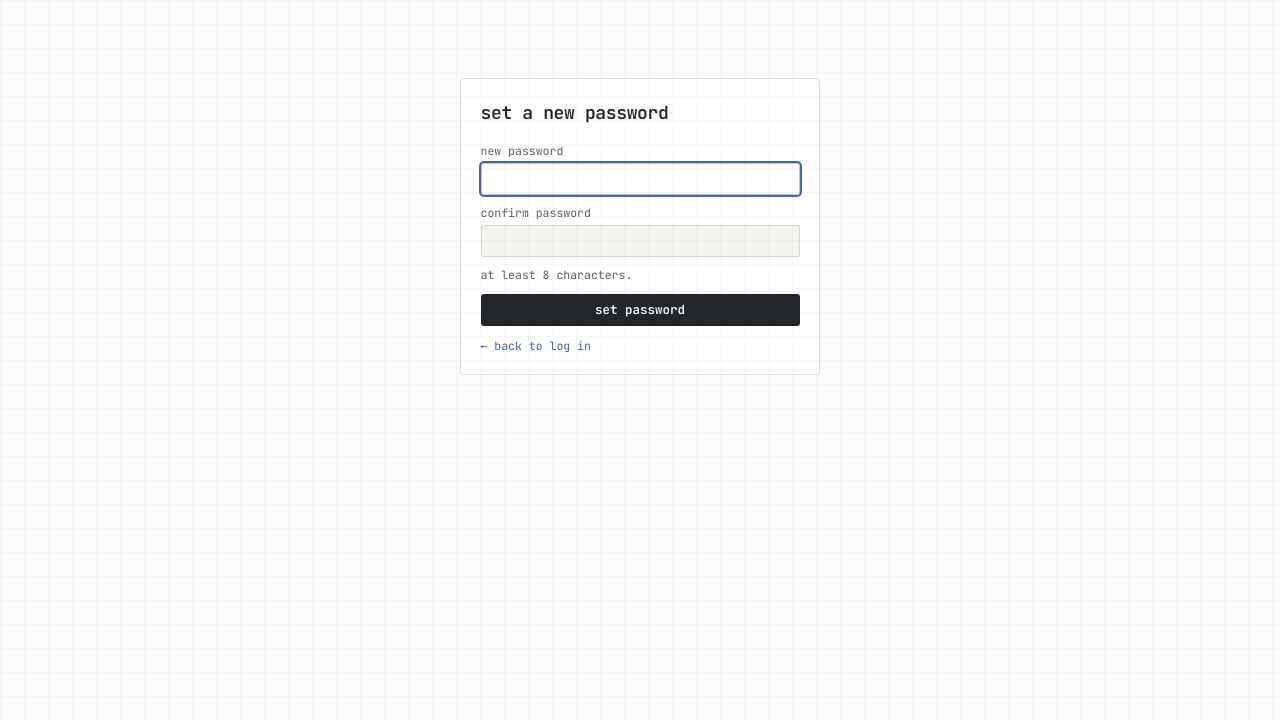
ResetPasswordPage › explains an invalid or expired token
The width and height of the screenshot is (1280, 720).
Step 1. Type "hunter2hunter2" into the password field labelled "new password" → (640, 179), box top-left (480, 163), bottom-right (800, 195)
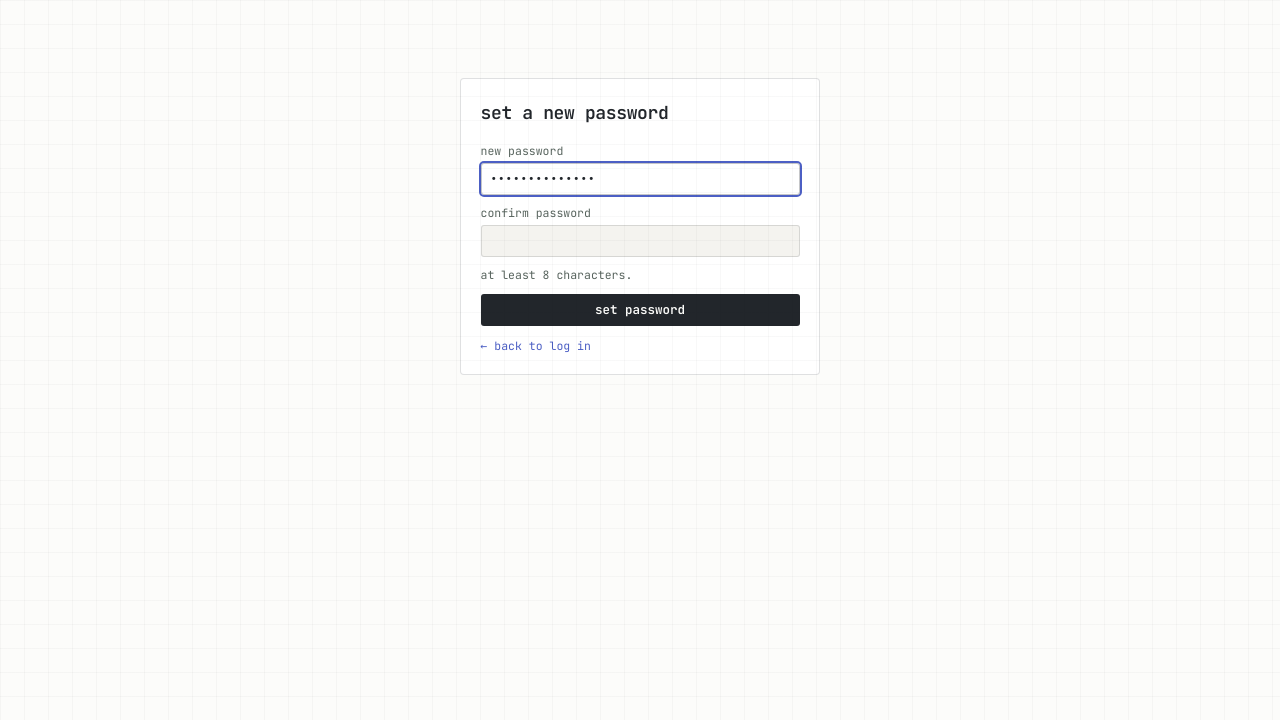
Step 2. Type "hunter2hunter2" into the password field labelled "confirm password" → (640, 241), box top-left (480, 225), bottom-right (800, 257)
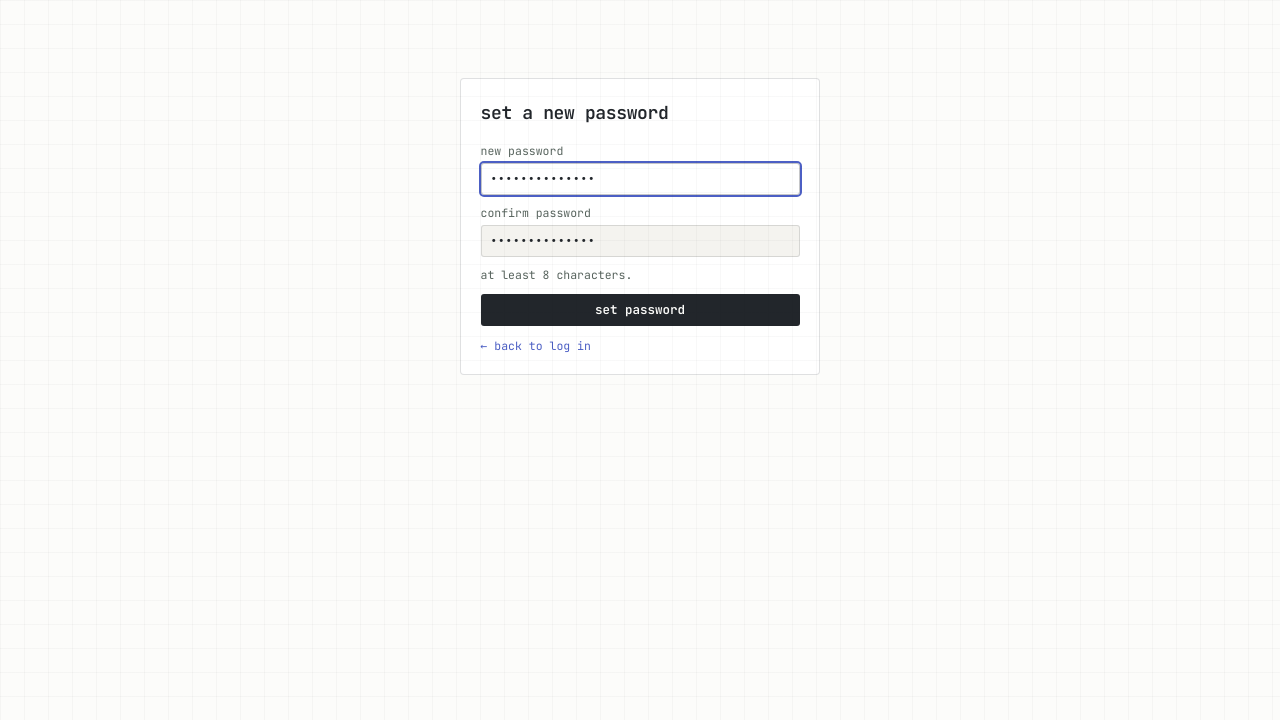
Step 3. Click the button "set password" → (640, 310), box top-left (480, 294), bottom-right (800, 326)
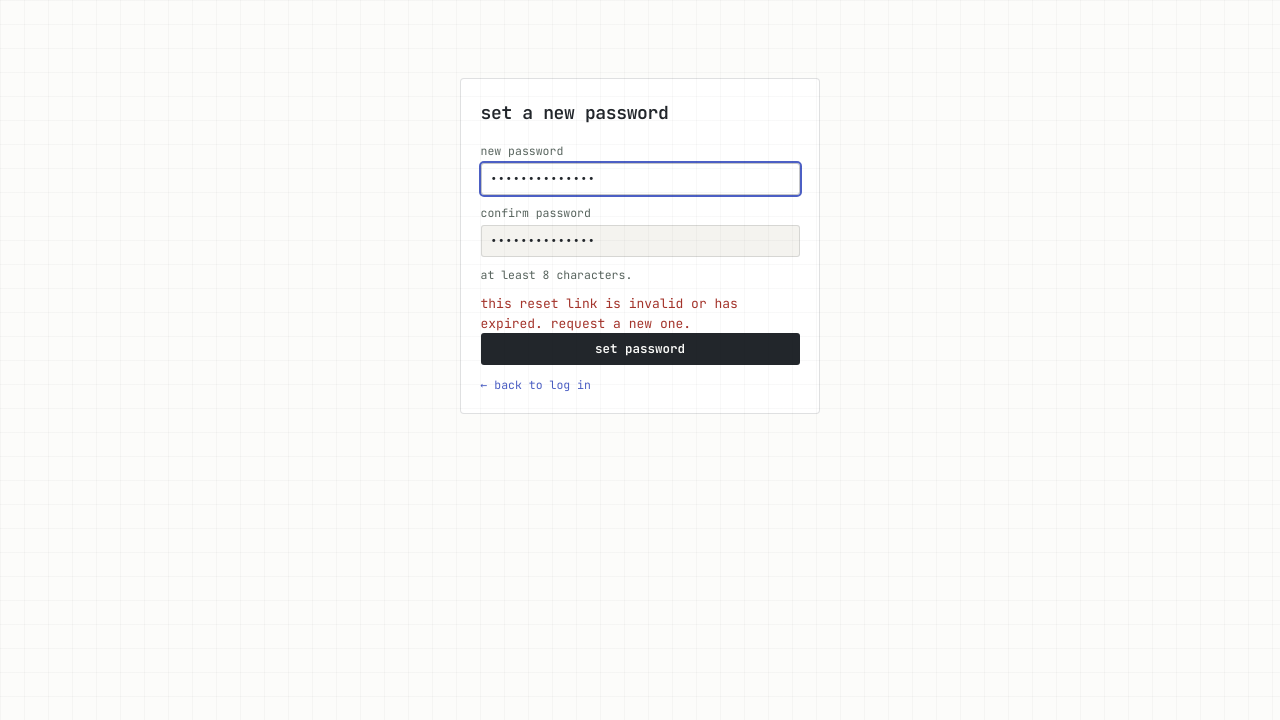
Check: the message shows "invalid or has expired", box top-left (480, 295), bottom-right (738, 332)
